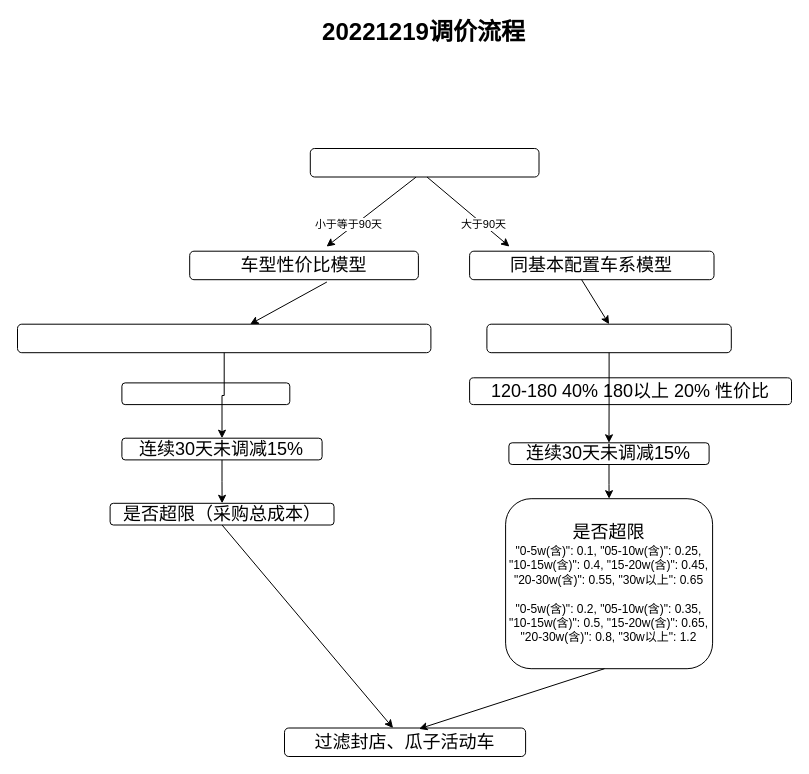
The diagram is 809 pixels wide and 774 high, and some of its shapes have lost their labels. The shapes that lost their labels are listed below. From the top down, each one's centre as x and y in pixels, then its label:
(424,162): 预警车源
(223,338): 首先判断线索增量 & 参考数据量
(608,338): 参考数据量
(205,393): 40%性价比
